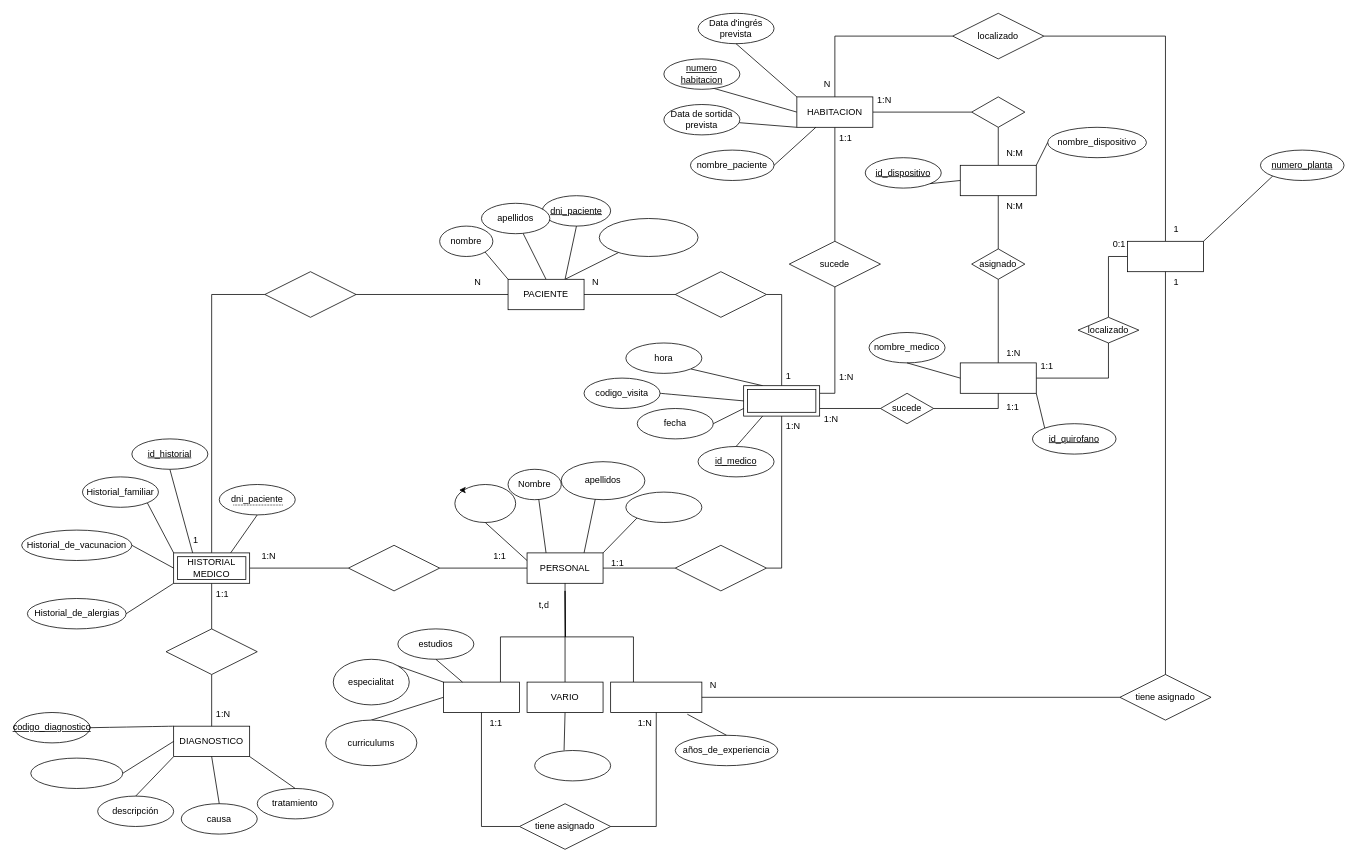
This 1357x863 diagram has some shape labels left out. Here are the shapes that lost their labels. From the top down, the centre of each, then its label:
At point 998,111: "equipa".
At point 998,180: "EQUIPAMIENTO".
At point 648,237: "Medicaments_recibidos".
At point 1165,256: "PLANTA".
At point 310,294: "tiene".
At point 720,294: "solicita".
At point 998,377: "QUIROFANO".
At point 781,400: "RES/VIS".
At point 485,503: "Id_personal".
At point 663,506: "dni".
At point 394,568: "crea".
At point 720,568: "realiza".
At point 211,651: "obtiene".
At point 481,696: "MEDICO".
At point 656,696: "ENFERMERA".
At point 76,772: "Nombre_diagnostico".
At point 572,765: "tipus de feina".
